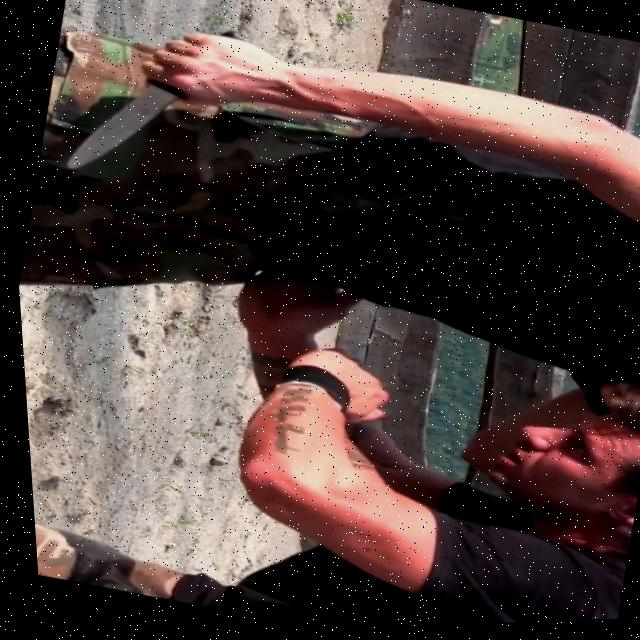knife: (57, 67, 183, 191)
